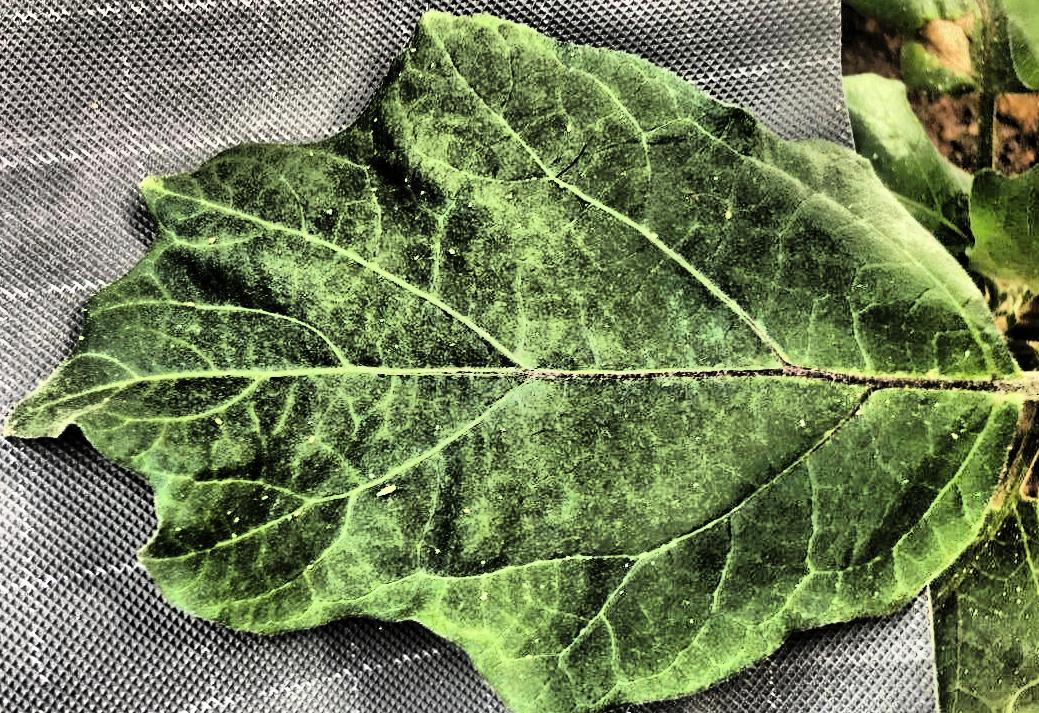HEALTHY: (1, 0, 1039, 713)
